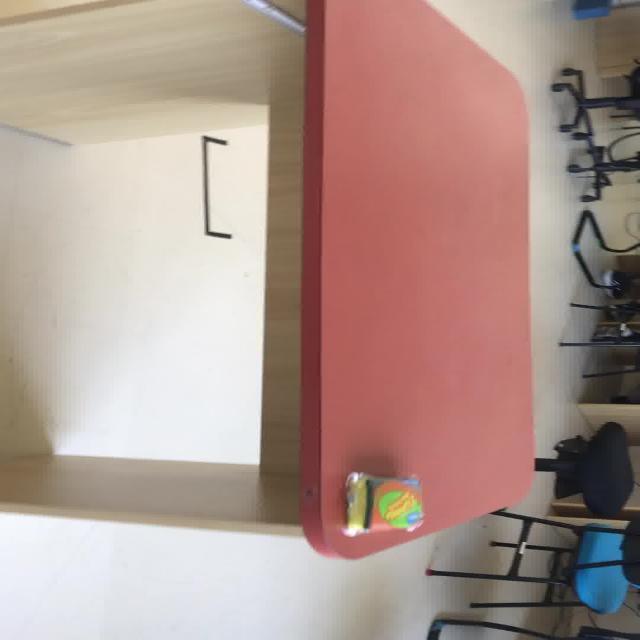sponge: (571, 522, 628, 613), (371, 478, 423, 531), (342, 471, 370, 536)
